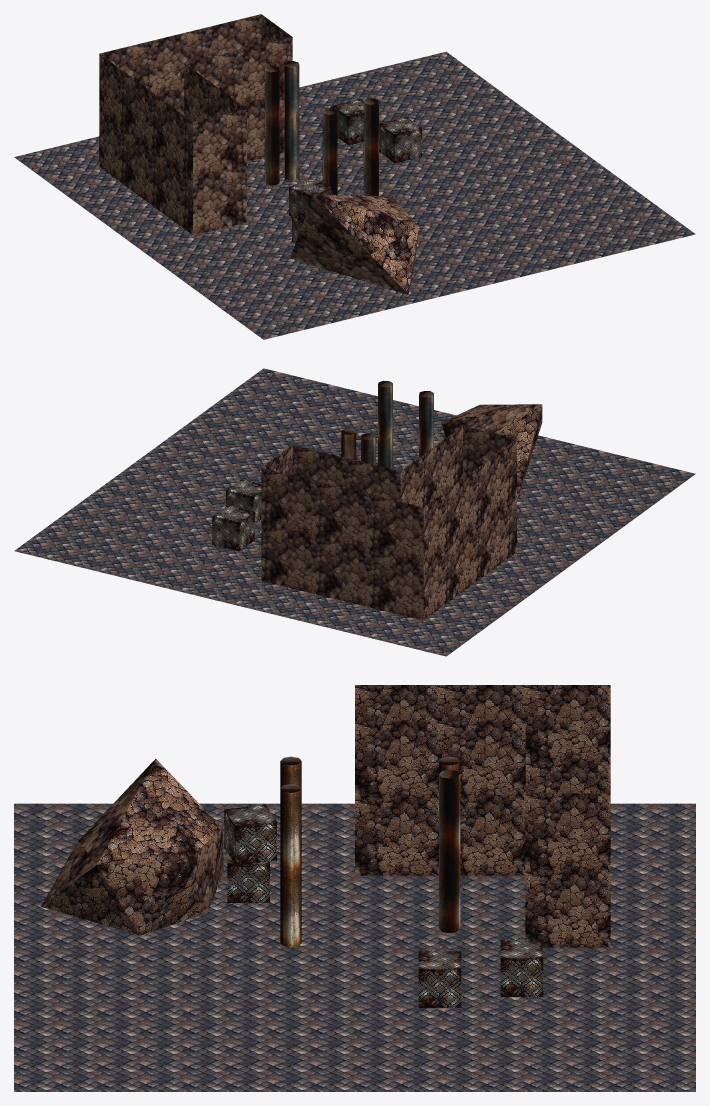
Rendered from stage_test.gltf.
3 views of the same model, one above another, from view 1: azimuth 30°, elevation 25°; view 2: azimuth 150°, elevation 25°; view 3: azimuth 270°, elevation 25° (orthographic). The views are drawn at different scales.
Parts seen in each view (by area): view 1: Floor, RockWall, Rock, Pipe.001, Pipe.002, Box.002, Pipe, Pipe.003, Box.003, Box.001; view 2: Floor, RockWall, Rock, Box.003, Pipe, Box.002, Pipe.003, Pipe.001, Pipe.002; view 3: Floor, RockWall, Rock, Pipe.001, Pipe, Box.001, Box.002, Box.003, Box, Pipe.003.
Boxes of the visible parts, x1,y1,x2,y2 form: Floor: (14,51,695,339); RockWall: (99,14,292,235); Rock: (290,194,418,294); Pipe.001: (284,61,299,180); Pipe.002: (264,66,279,185); Box.002: (379,117,421,162); Pipe: (363,98,378,195); Pipe.003: (322,108,337,194); Box.003: (333,99,363,145); Box.001: (289,178,332,221); Floor: (14,368,695,656); RockWall: (261,426,516,620); Rock: (441,404,542,500); Box.003: (212,505,254,551); Pipe: (378,380,392,469); Box.002: (226,479,261,523); Pipe.003: (419,391,433,457); Pipe.001: (341,428,356,460); Pipe.002: (361,433,375,465); Floor: (14,803,695,1091); RockWall: (355,685,610,947); Rock: (41,758,223,935); Pipe.001: (439,769,460,933); Pipe: (280,784,301,947); Box.001: (224,804,276,865); Box.002: (418,951,461,1007); Box.003: (500,940,543,996); Box: (227,853,269,902); Pipe.003: (280,756,301,787).
Size of the model in its own units: 16 by 4 by 16.
Materials: 4 (4 with a texture image).
